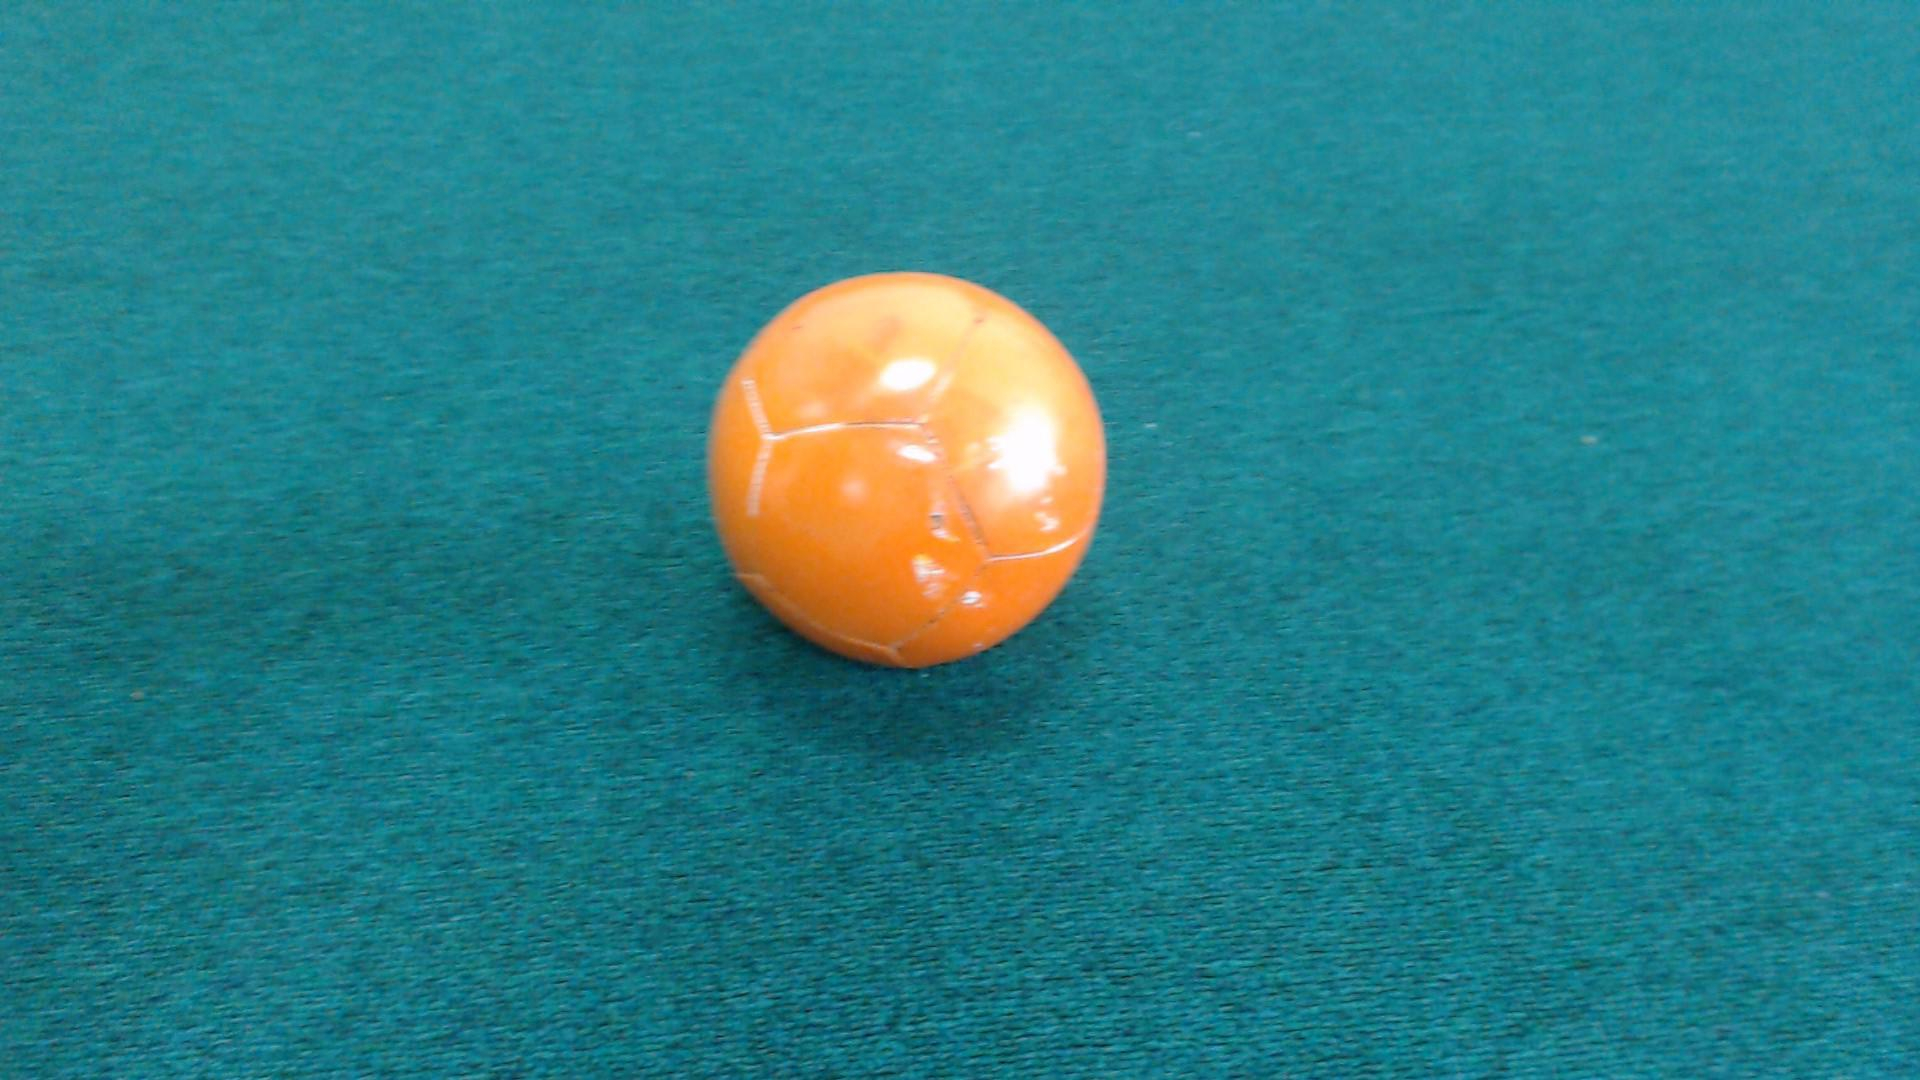bola: (671, 229, 1127, 708)
